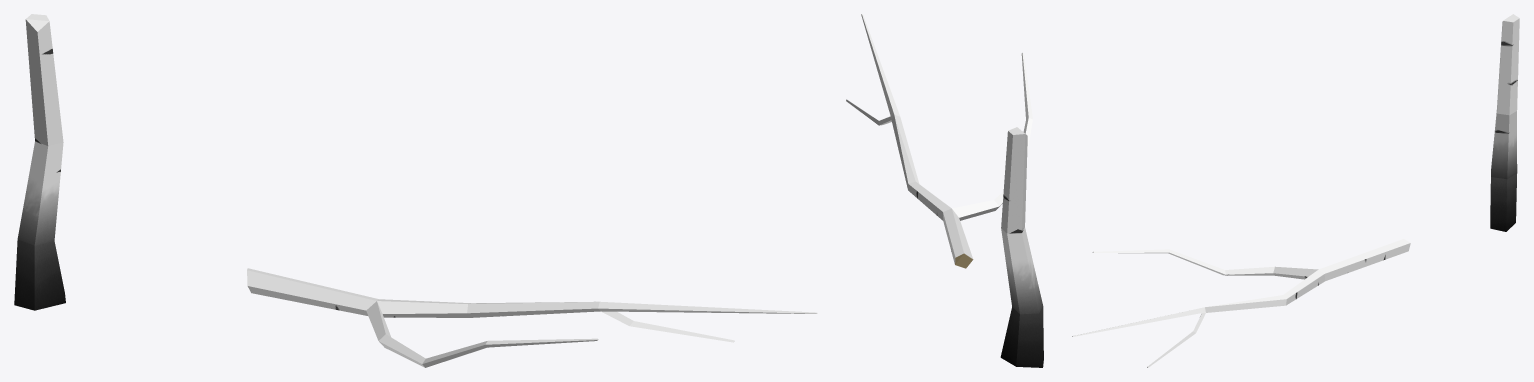
File: Birch_Tree_NoLeaves_crk_l_Snow_BT_03.fbx
3 views of the same model, side by side, from view 1: azimuth 30°, elevation 25°; view 2: azimuth 150°, elevation 25°; view 3: azimuth 270°, elevation 25° (orthographic). The views are drawn at different scales.
Visible parts, largest first — view 1: Birch_Tree_NoLeaves_crk_l_Snow_BT_03; view 2: Birch_Tree_NoLeaves_crk_l_Snow_BT_03; view 3: Birch_Tree_NoLeaves_crk_l_Snow_BT_03.
Part boxes in pixels (x1,y1,x2,y2): Birch_Tree_NoLeaves_crk_l_Snow_BT_03: (14,14,817,367); Birch_Tree_NoLeaves_crk_l_Snow_BT_03: (846,14,1043,367); Birch_Tree_NoLeaves_crk_l_Snow_BT_03: (1072,14,1519,367).
Bounding box in the file's own units: 852 × 445 × 877.
